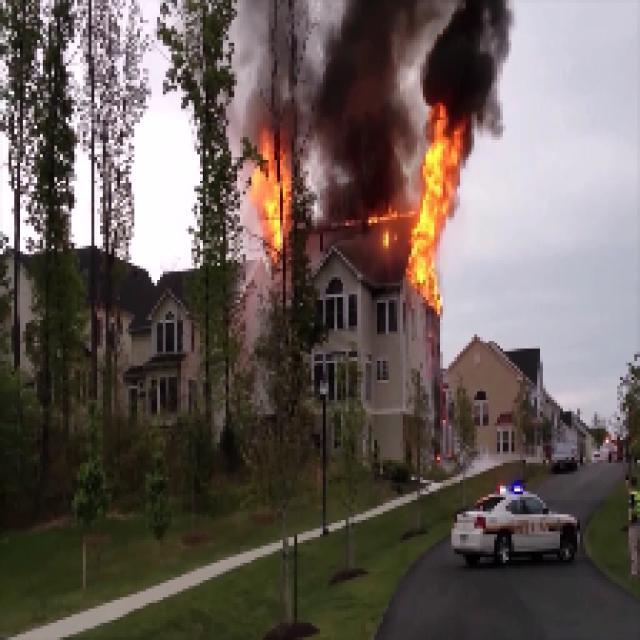Fire: (402, 123, 467, 287), (259, 152, 303, 248)
Smoke: (318, 4, 402, 202), (438, 7, 500, 104)
